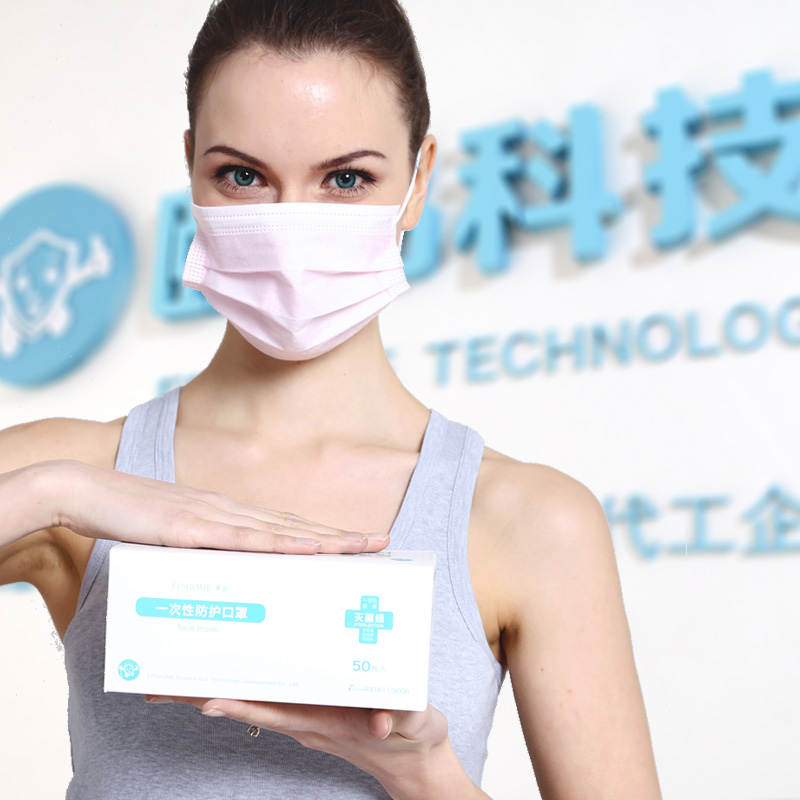face_mask: (186, 46, 409, 344)
